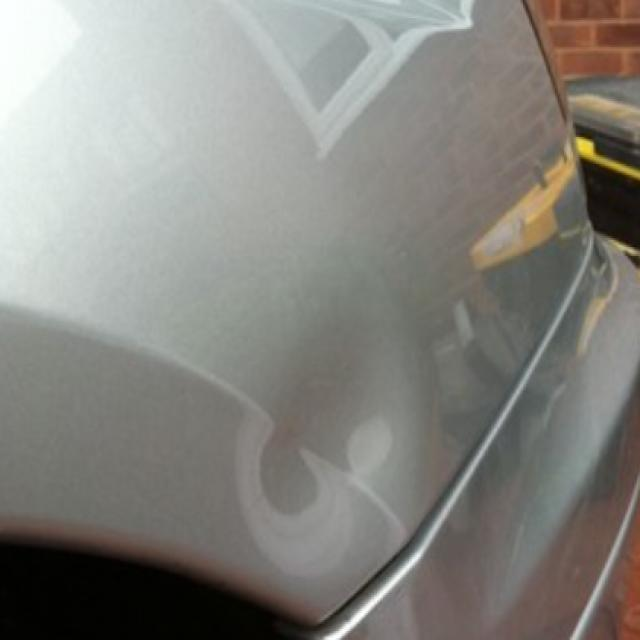dents: (236, 328, 394, 552)
